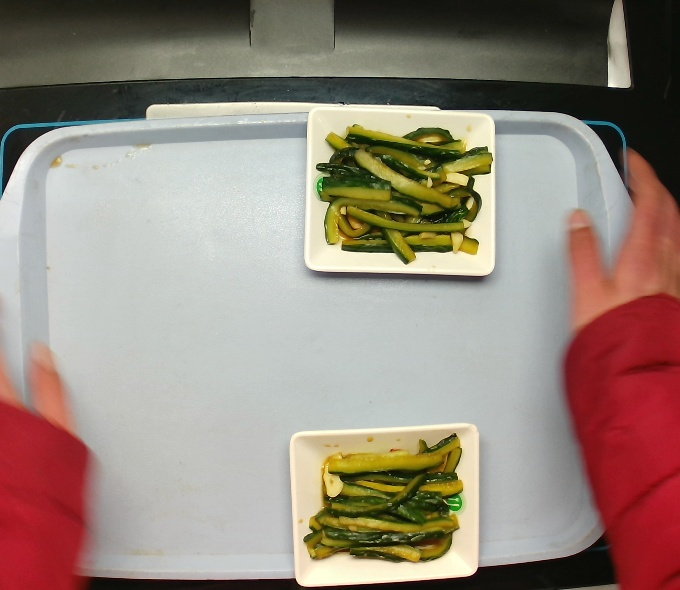wcq-LiangBanHuangGua: (307, 119, 493, 267), (300, 429, 471, 564)
